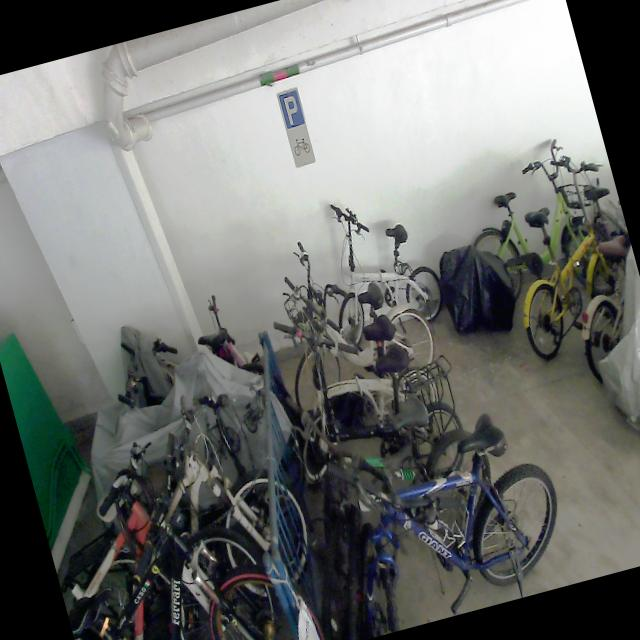bike: (50, 372, 330, 640), (293, 398, 579, 640), (29, 418, 290, 640), (280, 334, 480, 540), (255, 213, 443, 413), (264, 284, 452, 484), (450, 130, 628, 328), (484, 143, 640, 360), (308, 180, 450, 347)
